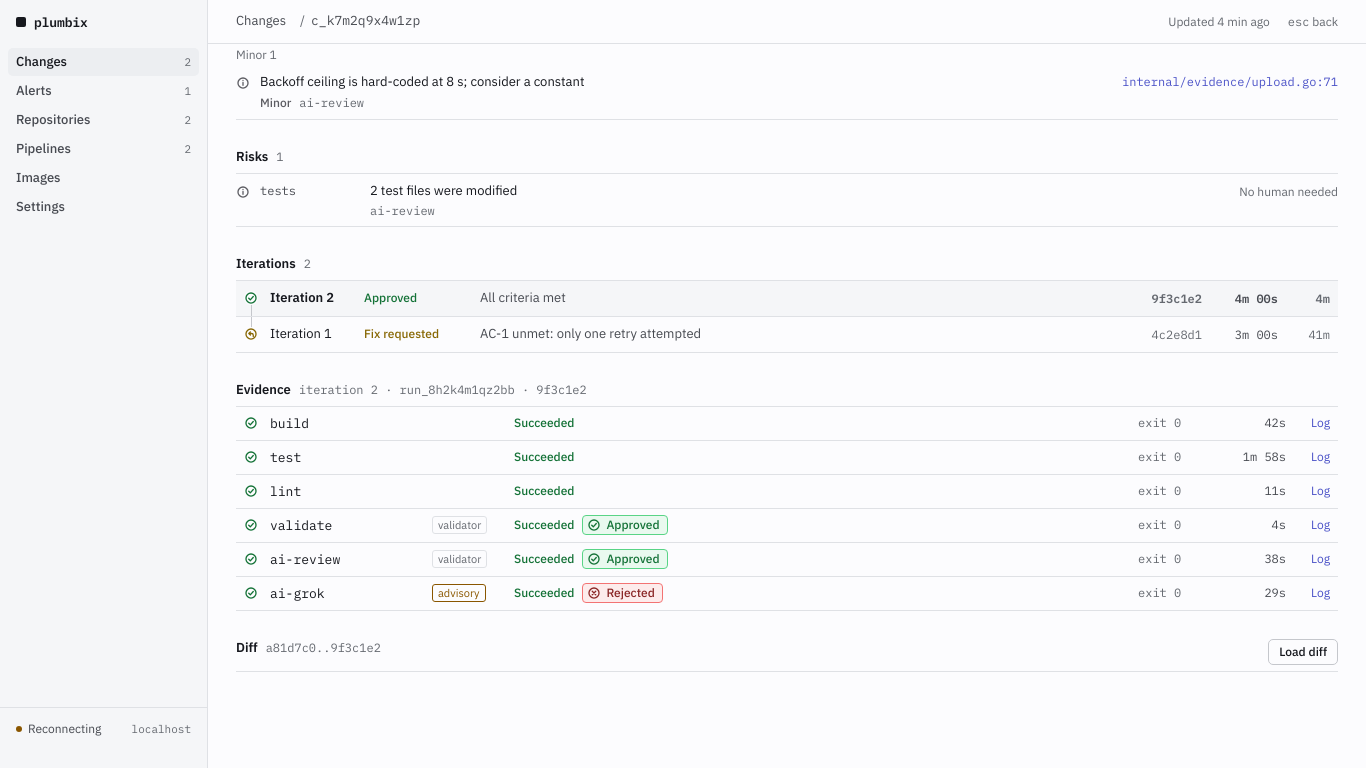
Test: Log panel › opens from an evidence row with the step header and numbered lines
(page scrolled)
What coordinates should you click on to do the following:
click the button "test Succeeded exit 0 1m 58s Log"
I would click on:
 (274, 462)
Its box is [236, 441, 1338, 475].
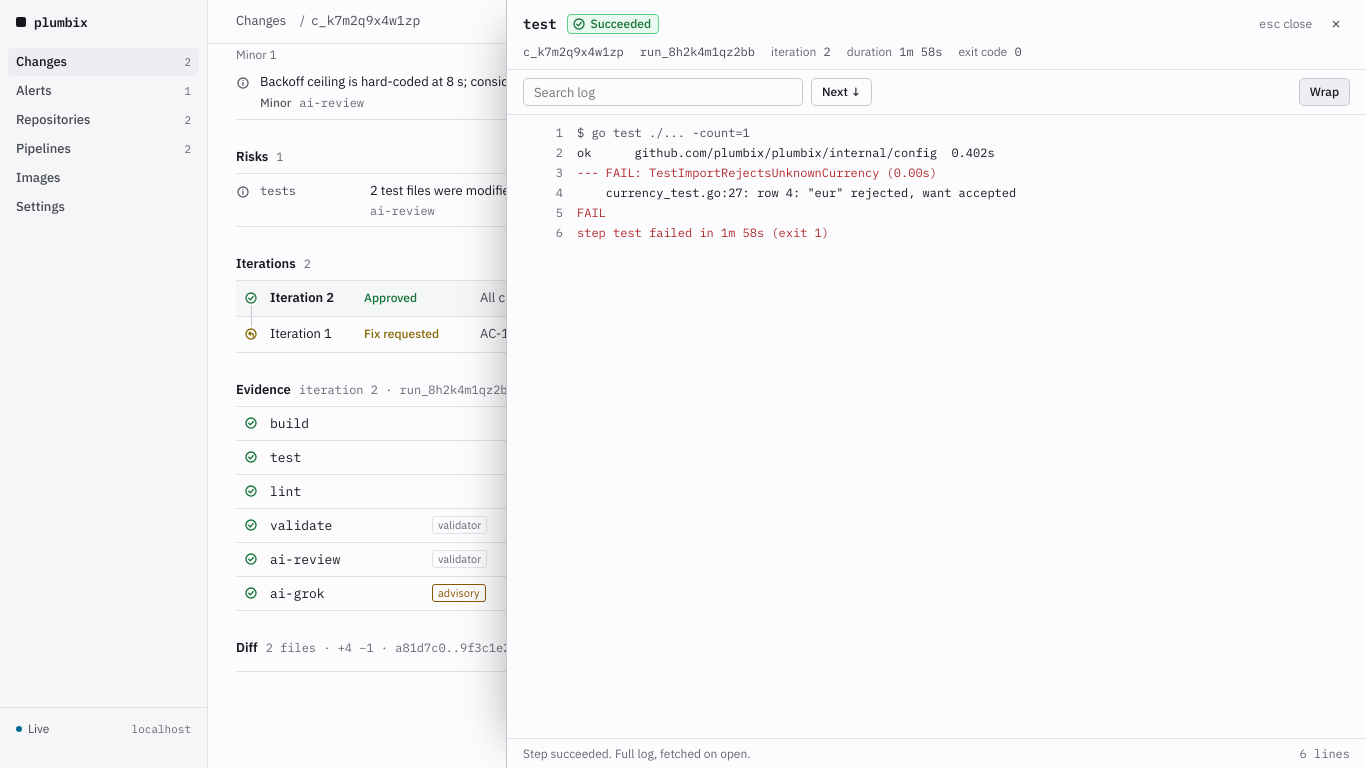
Check: the text "$ go test ./... -count=1" is shown, box [577, 125, 750, 140]
Check: the text "test" in the row of "close" is shown, box [523, 15, 557, 33]
Check: the element named "Step log" shows "c_k7m2q9x4w1zp", box [523, 44, 624, 59]
